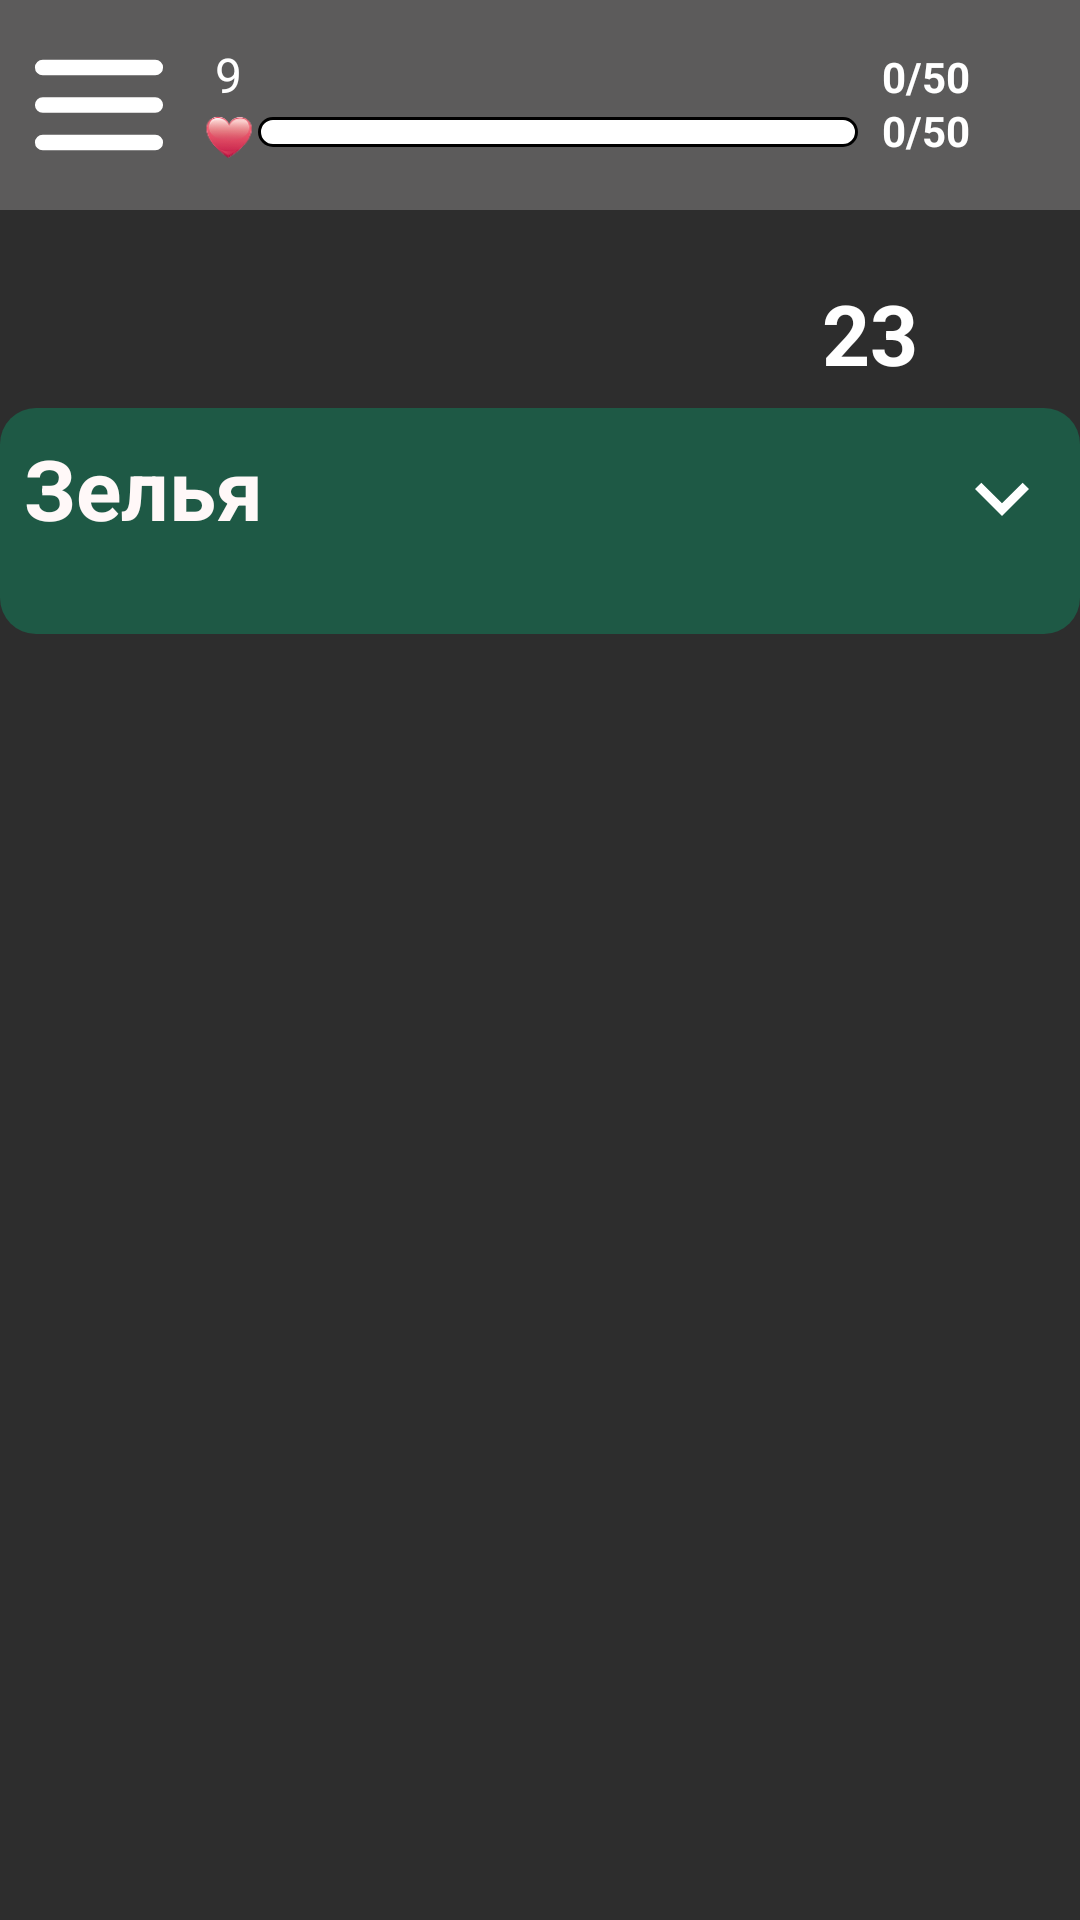

Locate icon controls on the screen. Image size 1080px×1920px, boxes as (x1, y1, x2, y2).
expand more: (975, 483, 1029, 516)
menu: (35, 59, 163, 151)
serdce: (206, 117, 252, 158)
